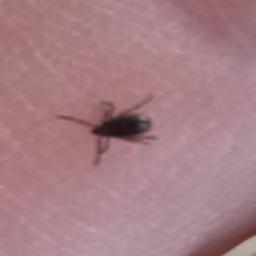Ixodes scapularis: (56, 93, 159, 166)
